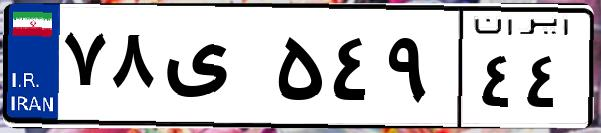4: (330, 28, 385, 110), (475, 38, 525, 113), (525, 38, 570, 115)
5: (270, 28, 330, 110)
7: (57, 26, 110, 100)
8: (110, 28, 158, 98)
9: (385, 28, 445, 110)
ی: (158, 20, 270, 120)
